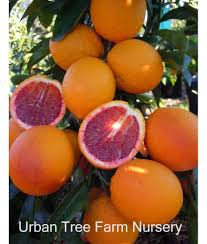orange: (108, 161, 187, 225), (11, 125, 73, 199), (144, 100, 199, 173), (106, 35, 166, 94), (61, 54, 115, 118), (45, 19, 106, 71)
